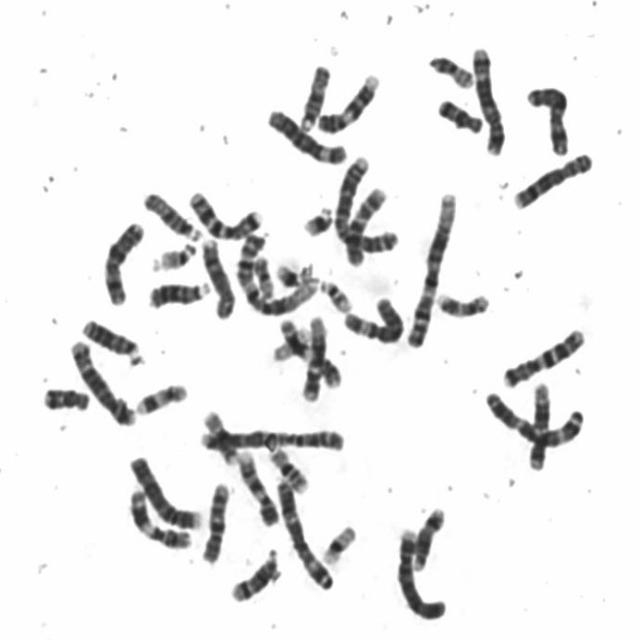A1: (402, 183, 461, 349), (231, 228, 321, 318)
A2: (329, 148, 402, 255), (193, 419, 348, 454)
A3: (271, 472, 336, 592), (480, 384, 588, 448)
B4: (124, 446, 204, 532), (391, 520, 450, 621)
B5: (64, 332, 138, 427), (467, 39, 508, 156)
C10: (340, 181, 390, 268), (196, 474, 232, 566)
C11: (274, 311, 344, 389), (123, 481, 194, 551)
C12: (297, 309, 329, 403), (523, 376, 554, 472)
C6: (262, 101, 350, 166), (337, 290, 406, 346)
C7: (498, 320, 589, 390), (183, 182, 266, 241)
C8: (508, 145, 598, 211), (195, 230, 237, 320)
C9: (312, 66, 383, 136), (232, 444, 281, 527)
D13: (77, 311, 147, 367), (142, 273, 214, 311)
D14: (225, 542, 282, 604), (408, 499, 448, 573)
D15: (138, 185, 203, 242), (294, 57, 333, 132)
E16: (198, 404, 240, 466), (264, 440, 312, 494)
E17: (130, 375, 190, 417), (431, 284, 492, 320)
E18: (433, 91, 486, 135), (37, 379, 92, 414)
F19: (316, 518, 359, 567), (267, 319, 311, 364)
F20: (424, 48, 476, 90), (249, 249, 276, 300)
G21: (297, 198, 337, 238), (271, 256, 306, 288)
G22: (149, 236, 198, 272), (314, 272, 354, 313)
X: (97, 214, 146, 307), (522, 79, 574, 157)
